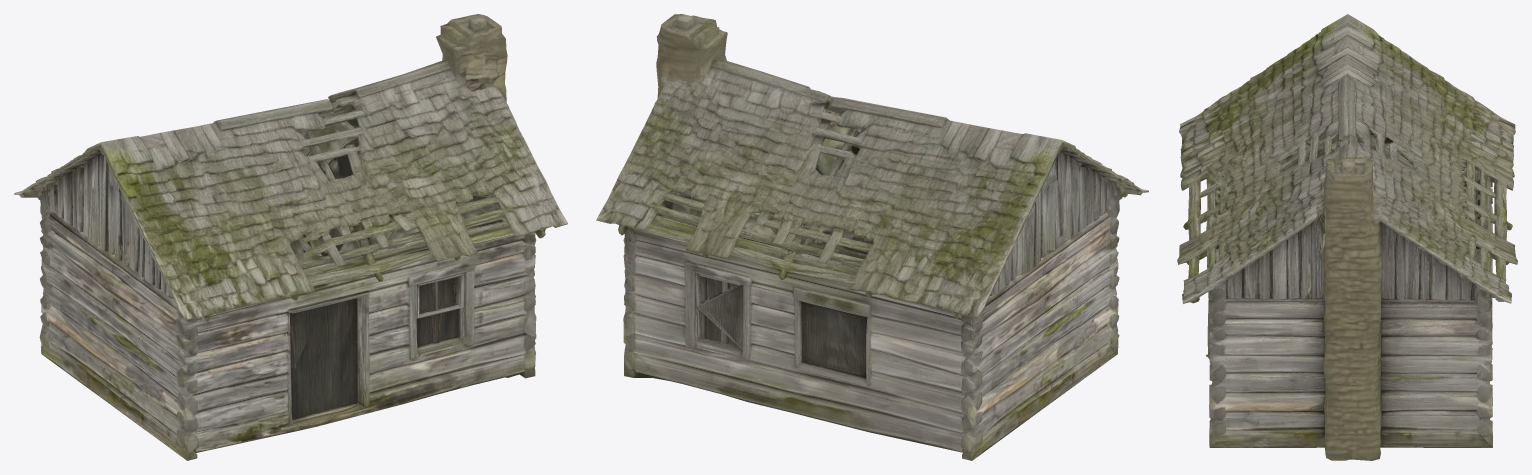
Rendered from cabin_abandoned_1.glb.
The picture shows the model from 3 angles, left to right: view 1: azimuth 30°, elevation 25°; view 2: azimuth 150°, elevation 25°; view 3: azimuth 270°, elevation 25°; orthographic projection. The views are drawn at different scales.
Visible parts, largest first — view 1: Mesh_0; view 2: Mesh_0; view 3: Mesh_0.
Boxes of the visible parts, box(x1,y1,x2,y2) form: Mesh_0: box(14, 14, 567, 460); Mesh_0: box(596, 14, 1148, 460); Mesh_0: box(1177, 14, 1517, 460).
Bounding box in the file's own units: 1.91 × 1.39 × 1.47.
Materials: 1 (1 with a texture image).
